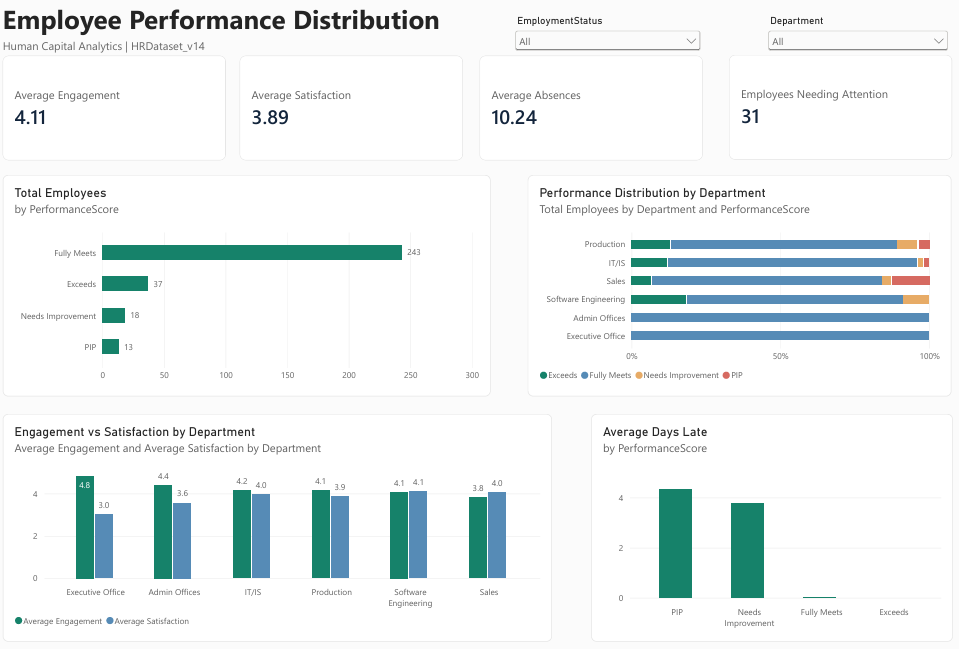

The page's visual inventory and layout, read from the dashboard file:
{"tool":"powerbi","page":{"name":"Page 3","canvas":[1920,1080],"ordinal":2},"visuals":[{"type":"textbox","box":[10,10,658.3,63.3],"z":0},{"type":"textbox","box":[10,63.8,320,50],"z":1000},{"type":"cardVisual","fields":{"Data":["Employees.Average Satisfaction"]},"box":[350,88.8,320,150],"z":2000},{"type":"cardVisual","fields":{"Data":["Employees.Average Absences"]},"box":[694.3,88.6,320,150],"z":3000},{"type":"cardVisual","fields":{"Data":["Employees.Employees Needing Attention"]},"box":[1051.7,88.3,320,150],"z":4000},{"type":"cardVisual","fields":{"Data":["Employees.Average Engagement"]},"box":[10,88.8,320,150],"z":5000},{"type":"clusteredBarChart","fields":{"Category":["Employees.PerformanceScore"],"Y":["Employees.Total Employees"]},"box":[10,260,700,317.5],"z":6000},{"type":"hundredPercentStackedBarChart","title":"Performance Distribution by Department","fields":{"Category":["Employees.Department"],"Series":["Employees.PerformanceScore"],"Y":["Employees.Total Employees"]},"box":[763.3,260,607.5,317.5],"z":7000},{"type":"clusteredColumnChart","title":"Engagement vs Satisfaction by Department","fields":{"Category":["Employees.Department"],"Y":["Employees.Average Engagement","Employees.Average Satisfaction"]},"box":[10,602.5,787.5,327.5],"z":8000},{"type":"clusteredColumnChart","fields":{"Category":["Employees.PerformanceScore"],"Y":["Employees.Average Days Late"]},"box":[854.3,602.9,518.6,327.1],"z":9000},{"type":"slicer","fields":{"Values":["Employees.Department"]},"box":[1102.9,30,268.6,165.7],"z":10000},{"type":"slicer","fields":{"Values":["Employees.EmploymentStatus"]},"box":[740,30,275.7,165.7],"z":11000}]}

Visuals, with their boxes on the page's 1920x1080 design canvas (x1, y1, x2, y2). These are canvas units, not pixel positions in the 959x649 screenshot, which may show the page scaled, cropped or inside an application window:
textbox: region(10, 10, 668, 73)
textbox: region(10, 64, 330, 114)
cardVisual - Employees.Average Satisfaction: region(350, 89, 670, 239)
cardVisual - Employees.Average Absences: region(694, 89, 1014, 239)
cardVisual - Employees.Employees Needing Attention: region(1052, 88, 1372, 238)
cardVisual - Employees.Average Engagement: region(10, 89, 330, 239)
clusteredBarChart - Employees.PerformanceScore x Employees.Total Employees: region(10, 260, 710, 578)
"Performance Distribution by Department" hundredPercentStackedBarChart: region(763, 260, 1371, 578)
"Engagement vs Satisfaction by Department" clusteredColumnChart: region(10, 602, 798, 930)
clusteredColumnChart - Employees.PerformanceScore x Employees.Average Days Late: region(854, 603, 1373, 930)
slicer - Employees.Department: region(1103, 30, 1372, 196)
slicer - Employees.EmploymentStatus: region(740, 30, 1016, 196)
